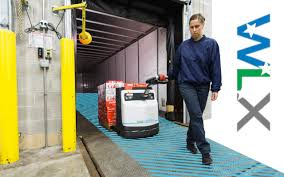Pallet Jack: (98, 73, 173, 141)
